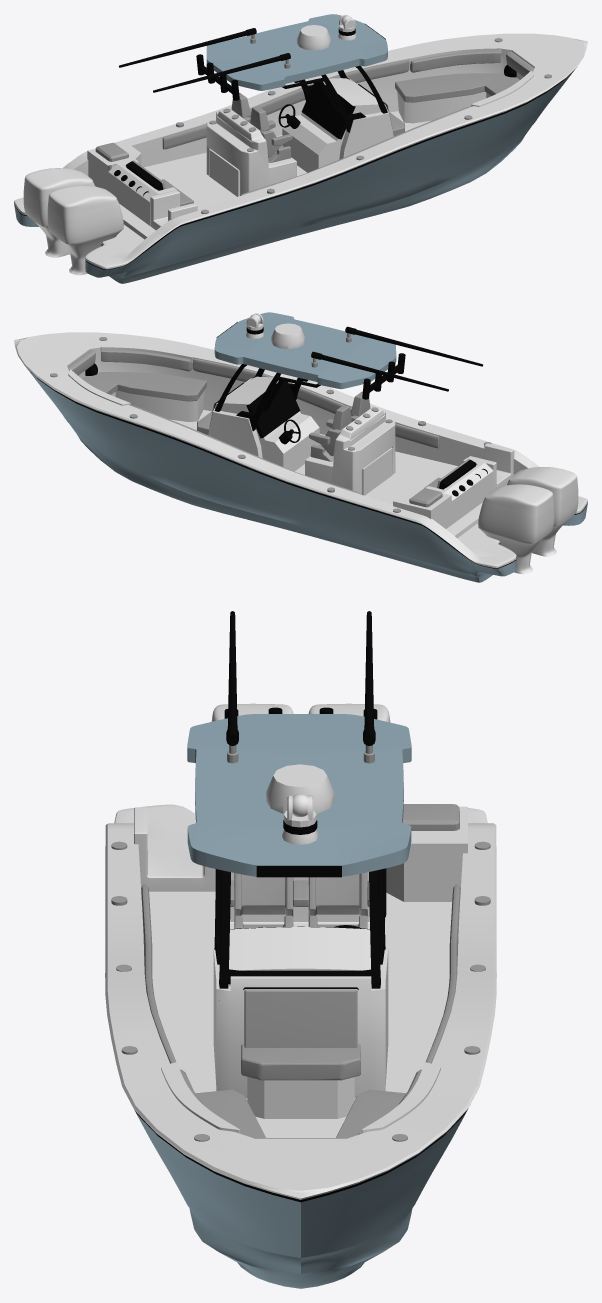
File: 3dboat.glb
3 renders of one model, top to bottom at view 1: azimuth 30°, elevation 25°; view 2: azimuth 150°, elevation 25°; view 3: azimuth 270°, elevation 25°, orthographic. The views are drawn at different scales.
Visible parts, largest first — view 1: Cube.031; view 2: Cube.031; view 3: Cube.031.
Boxes of the visible parts, box(x1,y1,x2,y2) form: Cube.031: box(14, 14, 587, 283); Cube.031: box(14, 312, 587, 582); Cube.031: box(105, 611, 496, 1288).
Size of the model in its own units: 8.68 by 2.71 by 2.7.
